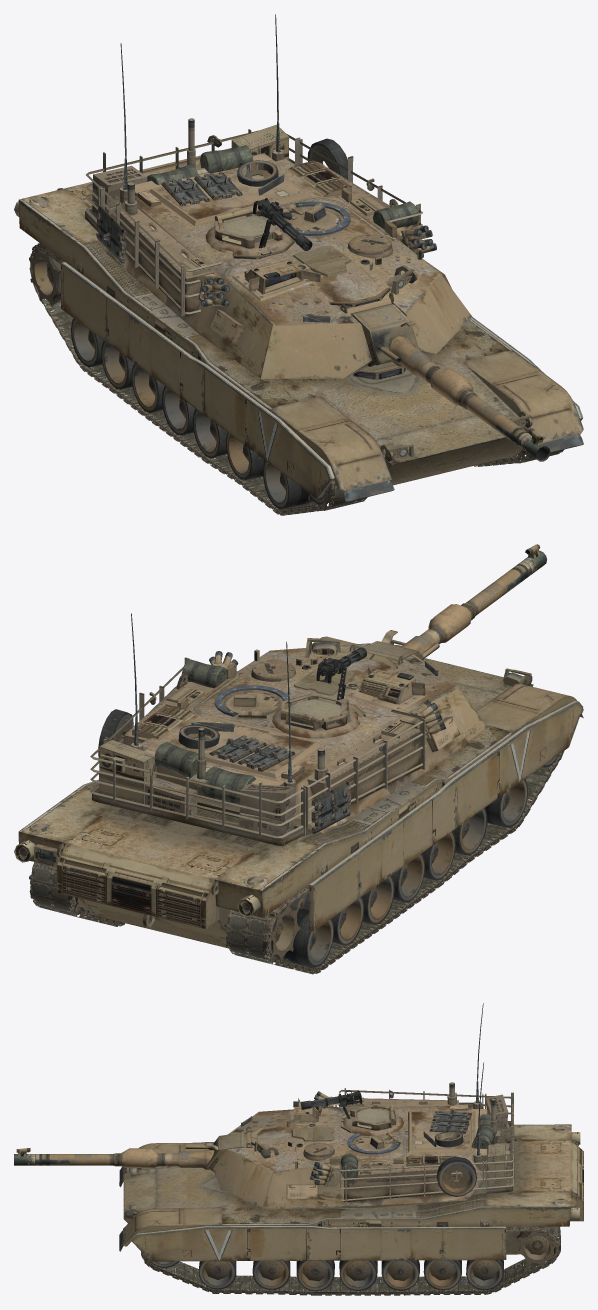
Rendered from tanque.glb.
3 renders of one model, top to bottom at view 1: azimuth 30°, elevation 25°; view 2: azimuth 150°, elevation 25°; view 3: azimuth 270°, elevation 25°, orthographic. The views are drawn at different scales.
Visible parts, largest first — view 1: Object_5, Object_2, Object_3; view 2: Object_5, Object_2, Object_3; view 3: Object_5, Object_2, Object_3.
Boxes of the visible parts, left/top/right/bottom form: Object_5: left=14, top=14, right=583, bottom=508; Object_2: left=29, top=243, right=564, bottom=515; Object_3: left=253, top=198, right=312, bottom=250; Object_5: left=14, top=544, right=583, bottom=967; Object_2: left=29, top=751, right=564, bottom=974; Object_3: left=316, top=647, right=366, bottom=683; Object_5: left=14, top=1003, right=583, bottom=1291; Object_2: left=141, top=1226, right=560, bottom=1295; Object_3: left=300, top=1090, right=362, bottom=1109.
Size of the model in its own units: 252 by 308 by 709.
4 materials, 4 textured.
